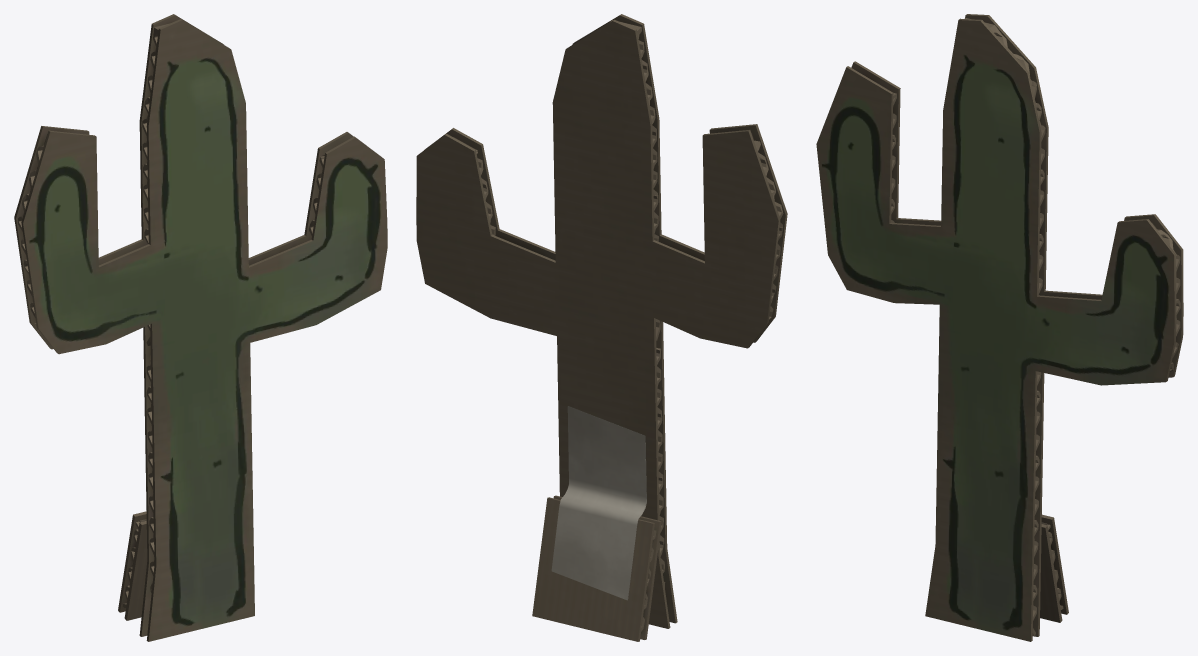
The model's file is cardboard_cactus.glb.
The picture shows the model from 3 angles, left to right: view 1: azimuth 30°, elevation 25°; view 2: azimuth 150°, elevation 25°; view 3: azimuth 330°, elevation 25°; orthographic projection.
Parts seen in each view (by area): view 1: pPlane16_yellow_0, pPlane16_pink_0, pPlane16_orange_0; view 2: pPlane16_pink_0, pPlane16_teal_0, pPlane16_orange_0; view 3: pPlane16_yellow_0, pPlane16_pink_0, pPlane16_orange_0.
Part boxes in pixels (x1,y1,x2,y2): pPlane16_yellow_0: (23,20,387,641); pPlane16_pink_0: (14,14,355,641); pPlane16_orange_0: (18,23,324,607); pPlane16_pink_0: (416,14,787,641); pPlane16_teal_0: (551,406,646,600); pPlane16_orange_0: (476,20,783,631); pPlane16_yellow_0: (816,20,1174,641); pPlane16_pink_0: (846,14,1183,641); pPlane16_orange_0: (891,18,1180,636).
Size of the model in its own units: 0.0344 by 0.0547 by 0.00576.
Materials: 4 (4 with a texture image).
